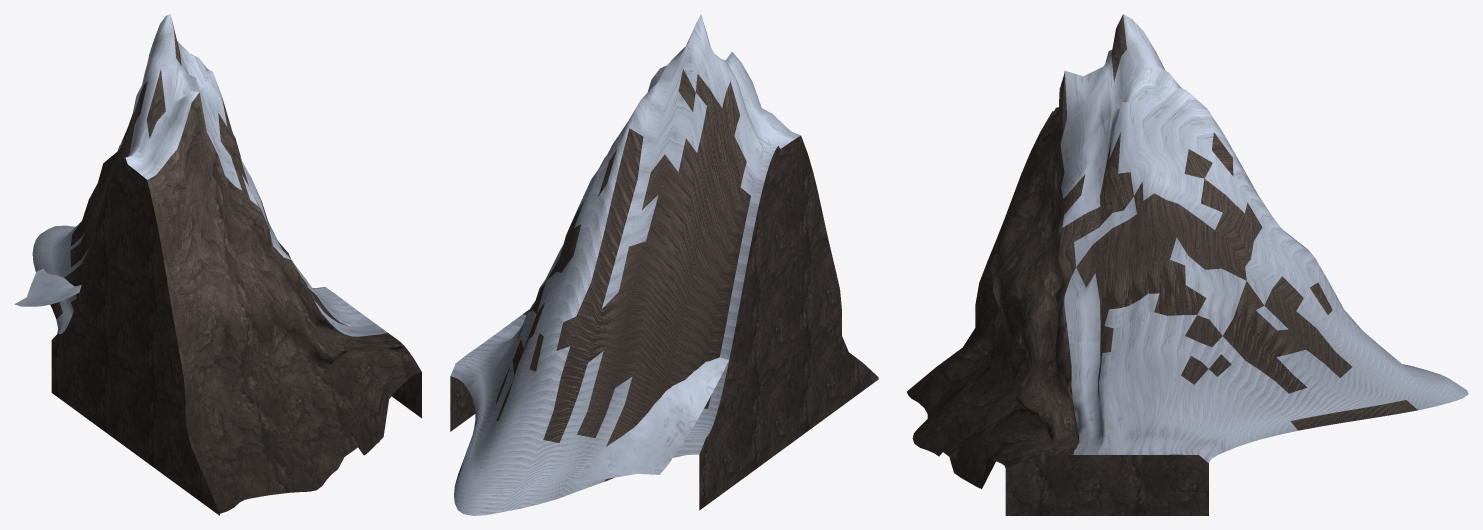
The model's file is seacliff_endcap_right_h5_b_v5_winter.glb.
3 renders of one model, left to right at view 1: azimuth 30°, elevation 25°; view 2: azimuth 150°, elevation 25°; view 3: azimuth 270°, elevation 25°, orthographic. The views are drawn at different scales.
Parts seen in each view (by area): view 1: seacliff_endcap_right_h5_b; view 2: seacliff_endcap_right_h5_b; view 3: seacliff_endcap_right_h5_b.
Part boxes in pixels (left/top/right/bottom): seacliff_endcap_right_h5_b: left=14, top=14, right=421, bottom=515; seacliff_endcap_right_h5_b: left=450, top=14, right=878, bottom=515; seacliff_endcap_right_h5_b: left=907, top=14, right=1468, bottom=515.
Bounding box in the file's own units: 6 × 9.36 × 11.63.
2 materials, 2 textured.
